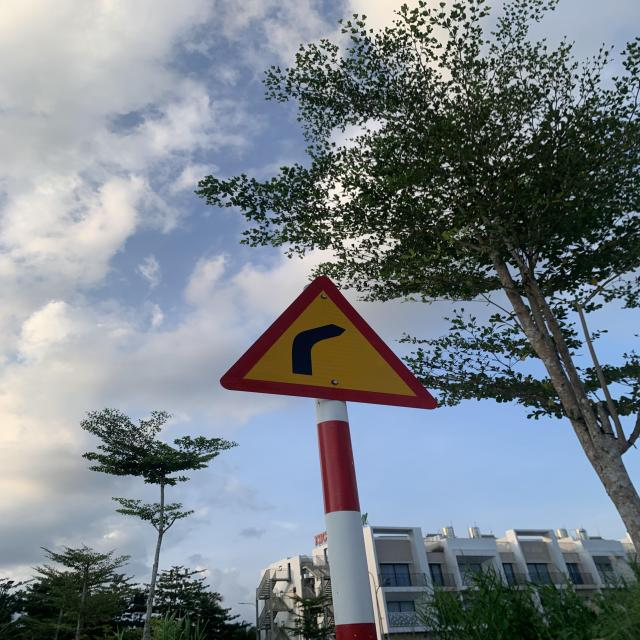Duong_Nguoi_Di_Bo_Cat_Ngang: (223, 275, 438, 410)
